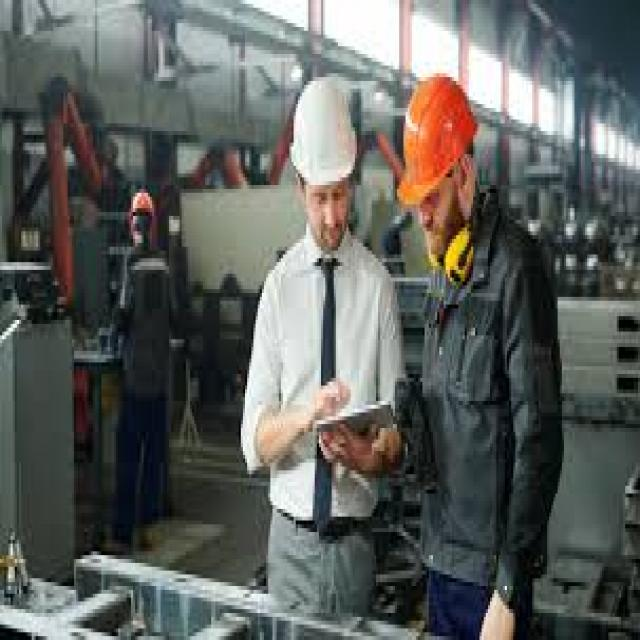Safety-Helmet: (389, 62, 488, 224), (276, 62, 369, 208), (118, 185, 163, 219)
